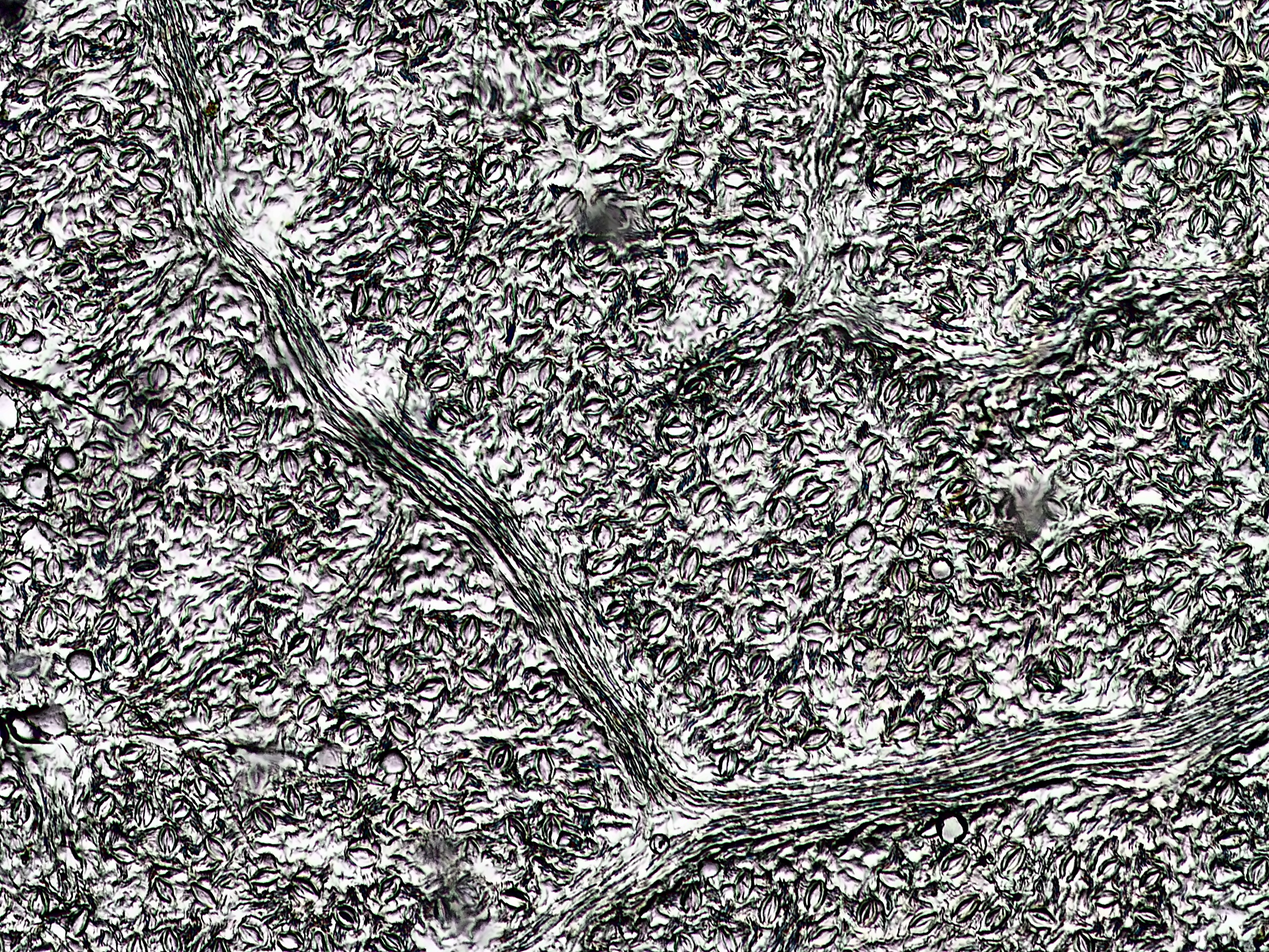stomata: (551, 189, 588, 226), (187, 880, 221, 914), (1221, 365, 1256, 398), (517, 287, 549, 323), (293, 693, 328, 725), (391, 130, 427, 161), (1151, 364, 1194, 389), (237, 914, 270, 946), (19, 231, 58, 258), (552, 292, 582, 327), (530, 748, 559, 784), (461, 375, 487, 415), (102, 838, 142, 864), (468, 259, 499, 292), (1206, 640, 1232, 679), (502, 815, 530, 851), (70, 298, 110, 323), (155, 823, 182, 860), (387, 714, 418, 746), (202, 834, 232, 867), (650, 647, 684, 676), (0, 127, 24, 168), (1159, 326, 1194, 354), (657, 412, 693, 439), (867, 166, 909, 189), (129, 491, 163, 519), (459, 665, 494, 692), (616, 162, 646, 193), (1124, 451, 1154, 482), (640, 608, 672, 637), (677, 546, 702, 583), (628, 299, 670, 321), (800, 926, 842, 948), (92, 697, 126, 724), (641, 10, 679, 34), (1031, 565, 1055, 603), (801, 876, 825, 914), (494, 360, 519, 396), (385, 242, 416, 271), (998, 846, 1026, 878), (335, 161, 372, 185), (883, 198, 923, 220), (62, 35, 87, 70), (67, 147, 102, 172), (928, 108, 958, 137), (148, 876, 177, 906), (557, 431, 586, 461), (531, 357, 559, 388), (878, 495, 909, 523), (884, 11, 911, 43), (1201, 485, 1237, 509), (756, 891, 780, 927), (888, 84, 921, 110), (930, 291, 963, 317), (1116, 388, 1138, 427), (143, 649, 173, 677), (343, 846, 378, 870), (249, 804, 277, 834), (816, 402, 844, 432), (1172, 516, 1196, 551), (360, 628, 387, 659), (766, 497, 793, 528), (940, 474, 971, 501), (1086, 413, 1117, 440), (757, 56, 789, 82), (289, 875, 321, 901), (575, 342, 611, 365), (132, 794, 155, 830), (576, 242, 609, 267), (907, 909, 940, 934), (476, 205, 510, 229), (79, 440, 116, 462), (555, 49, 583, 78), (1085, 478, 1114, 506), (1210, 777, 1239, 805), (480, 156, 510, 183), (596, 267, 626, 294), (694, 486, 721, 516), (1146, 634, 1176, 661), (33, 606, 59, 637), (24, 889, 50, 920), (703, 410, 729, 441), (1199, 313, 1222, 348), (458, 613, 481, 648), (887, 131, 919, 156), (241, 379, 273, 404), (925, 15, 949, 48), (97, 382, 130, 406), (252, 561, 288, 583), (1133, 906, 1166, 930), (1175, 407, 1203, 435), (452, 120, 481, 147), (520, 117, 547, 146), (32, 294, 59, 323), (376, 875, 403, 904), (1221, 541, 1250, 568), (1136, 868, 1165, 895), (709, 925, 738, 952), (405, 295, 439, 318), (933, 150, 956, 184), (182, 336, 205, 370), (420, 625, 446, 655), (1049, 648, 1075, 678), (950, 896, 980, 922), (664, 150, 701, 171), (576, 125, 601, 156), (268, 105, 299, 130), (994, 237, 1025, 262), (1212, 171, 1237, 202), (264, 503, 295, 528), (664, 448, 695, 473), (591, 521, 616, 552), (1057, 849, 1079, 884), (601, 32, 633, 56), (1089, 325, 1113, 357), (726, 556, 746, 594), (577, 395, 610, 418), (633, 264, 666, 287), (1031, 151, 1064, 174), (115, 742, 148, 765), (911, 427, 944, 450), (613, 81, 641, 108), (1087, 148, 1114, 176), (47, 597, 74, 625), (68, 528, 110, 546), (853, 342, 880, 370), (109, 192, 138, 218), (862, 95, 888, 124), (132, 219, 161, 245), (66, 906, 92, 935), (435, 400, 465, 425), (487, 743, 512, 773), (965, 492, 990, 522), (1061, 539, 1086, 569), (348, 283, 370, 317), (951, 72, 985, 94), (1186, 204, 1208, 238), (511, 402, 542, 426), (884, 244, 915, 268), (1231, 295, 1262, 319), (715, 748, 739, 779), (847, 244, 867, 281), (937, 235, 974, 255), (246, 865, 278, 888), (419, 182, 446, 209), (443, 762, 470, 789), (1041, 495, 1068, 522), (832, 379, 860, 405), (248, 672, 281, 694), (283, 784, 305, 817), (732, 870, 754, 903), (424, 368, 453, 393), (1005, 52, 1034, 77), (1171, 460, 1196, 489), (1028, 670, 1057, 695), (89, 251, 127, 270), (251, 78, 281, 102), (1225, 95, 1261, 115), (1121, 322, 1151, 346), (173, 454, 203, 478), (882, 378, 906, 408), (745, 650, 769, 680), (1214, 829, 1250, 849), (854, 898, 878, 928), (756, 24, 790, 45), (798, 620, 832, 641), (799, 729, 833, 750), (539, 814, 562, 845), (461, 836, 484, 867), (1246, 856, 1269, 887), (135, 172, 167, 194), (146, 358, 168, 390), (225, 704, 257, 726), (732, 434, 754, 466), (1140, 684, 1172, 706), (681, 883, 703, 915), (710, 649, 729, 686), (1022, 908, 1059, 927), (387, 176, 413, 203), (0, 200, 26, 227), (121, 106, 149, 131), (651, 94, 679, 119), (855, 6, 875, 41), (333, 903, 361, 928), (35, 122, 59, 151), (729, 136, 758, 160), (1216, 215, 1245, 239), (314, 482, 343, 506), (285, 630, 309, 659), (966, 535, 990, 564), (1172, 654, 1201, 678), (378, 286, 399, 319), (641, 59, 674, 80), (901, 51, 934, 72), (0, 563, 33, 584), (129, 560, 162, 581), (391, 654, 414, 684), (1122, 223, 1158, 242), (555, 0, 586, 22), (939, 853, 970, 875), (353, 12, 373, 46), (519, 247, 545, 273), (1128, 159, 1155, 184), (213, 348, 240, 373), (233, 452, 258, 479), (93, 610, 118, 637), (92, 794, 117, 821), (760, 406, 787, 431), (695, 609, 720, 636), (189, 397, 213, 425), (1138, 397, 1159, 429), (1094, 573, 1122, 597), (797, 51, 826, 74), (1155, 180, 1178, 209), (905, 637, 928, 666), (947, 41, 984, 59), (1152, 73, 1182, 95), (279, 447, 299, 480), (782, 433, 804, 463), (720, 167, 751, 188), (9, 795, 30, 826), (1039, 407, 1070, 428), (1103, 246, 1128, 272), (861, 439, 886, 465), (348, 129, 375, 153), (709, 15, 733, 42), (495, 891, 531, 909), (1119, 522, 1143, 549), (48, 260, 82, 279), (237, 36, 260, 64), (1209, 389, 1232, 417), (917, 373, 937, 405), (1092, 530, 1112, 562), (440, 330, 469, 352), (934, 191, 956, 220), (1219, 33, 1241, 62), (805, 484, 834, 506), (423, 231, 453, 252), (87, 226, 117, 247), (310, 442, 331, 472), (337, 668, 372, 686), (416, 678, 446, 699), (339, 779, 357, 814), (878, 870, 908, 891), (769, 690, 806, 707), (88, 490, 121, 509), (77, 102, 102, 127), (1045, 232, 1070, 257), (1069, 456, 1094, 481), (1010, 94, 1034, 120), (204, 496, 228, 522), (795, 351, 818, 378), (1187, 42, 1207, 73), (969, 273, 997, 295), (1075, 212, 1096, 241), (1066, 90, 1095, 111), (982, 582, 1003, 611), (16, 79, 48, 98), (660, 228, 698, 244), (316, 87, 336, 117), (1107, 39, 1132, 63), (527, 680, 552, 704), (404, 332, 427, 358), (611, 372, 634, 398), (1181, 155, 1204, 181), (767, 545, 790, 571), (279, 56, 314, 73), (104, 19, 126, 46), (741, 202, 774, 220), (588, 556, 621, 574), (954, 681, 987, 699), (498, 695, 518, 724), (639, 503, 668, 523), (893, 563, 913, 592), (698, 60, 730, 78), (1229, 617, 1247, 649), (1112, 87, 1137, 110), (682, 377, 707, 400), (1201, 586, 1226, 609), (723, 361, 745, 387), (933, 451, 959, 473), (856, 603, 878, 629), (1088, 889, 1118, 908), (167, 798, 194, 819), (377, 930, 404, 951), (998, 536, 1019, 563), (421, 9, 438, 42), (626, 566, 659, 583), (1249, 401, 1269, 429), (425, 799, 443, 830), (756, 727, 787, 745), (150, 411, 173, 435), (867, 677, 890, 701), (692, 110, 721, 129), (1027, 303, 1056, 322), (116, 148, 141, 170), (1106, 0, 1131, 22), (1209, 135, 1231, 160), (928, 591, 950, 616), (1096, 858, 1121, 880), (45, 558, 66, 584), (793, 569, 814, 595), (932, 712, 958, 733), (996, 4, 1013, 36), (1049, 274, 1081, 291), (1029, 183, 1049, 210), (888, 723, 918, 741), (122, 595, 150, 614), (1071, 929, 1094, 952), (1059, 48, 1083, 70), (339, 722, 363, 744), (566, 793, 599, 809), (1168, 590, 1190, 614), (1121, 634, 1143, 658), (980, 173, 997, 204), (1046, 122, 1077, 139), (192, 701, 213, 726), (387, 803, 408, 828), (828, 537, 849, 562), (686, 190, 712, 210), (682, 1, 708, 21), (1146, 17, 1172, 37), (68, 596, 88, 622), (238, 617, 264, 637), (293, 540, 320, 559), (723, 231, 755, 247), (161, 930, 184, 952), (880, 623, 903, 645), (684, 680, 705, 704), (978, 147, 1009, 163), (372, 50, 407, 64), (273, 143, 291, 170), (1144, 560, 1166, 582), (1249, 152, 1269, 176), (601, 599, 625, 619), (110, 643, 132, 664), (918, 532, 951, 546), (984, 906, 1004, 929), (275, 932, 302, 949), (1123, 599, 1150, 616), (229, 421, 259, 436), (248, 647, 273, 665), (848, 635, 873, 653), (1161, 118, 1193, 132), (933, 651, 953, 673), (674, 931, 696, 951), (647, 200, 676, 215), (319, 12, 338, 34), (183, 488, 203, 508), (753, 618, 776, 635), (814, 653, 831, 676), (1145, 135, 1165, 152), (300, 0, 320, 16), (903, 536, 917, 557), (847, 664, 859, 684)
